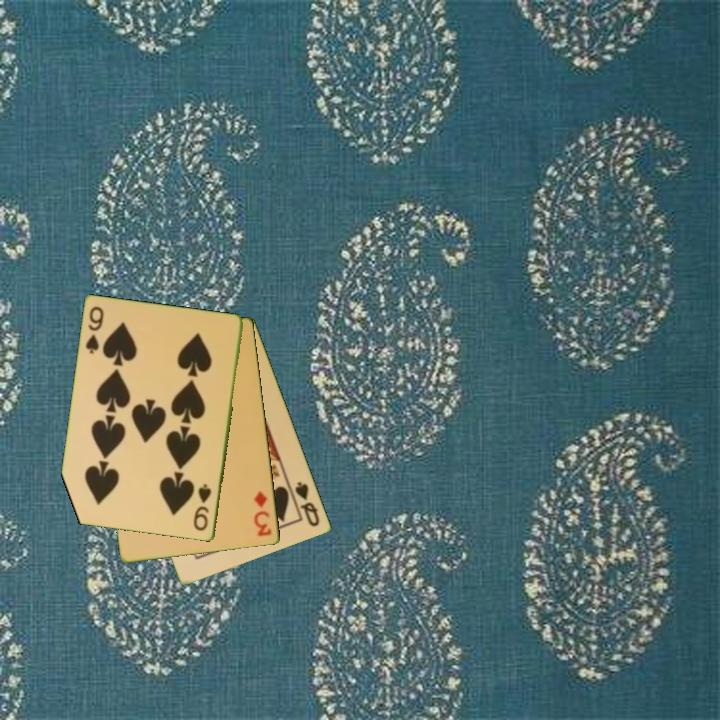3d: (251, 487, 275, 540)
9s: (82, 303, 107, 357), (190, 480, 214, 534)
Qs: (292, 478, 323, 530)
